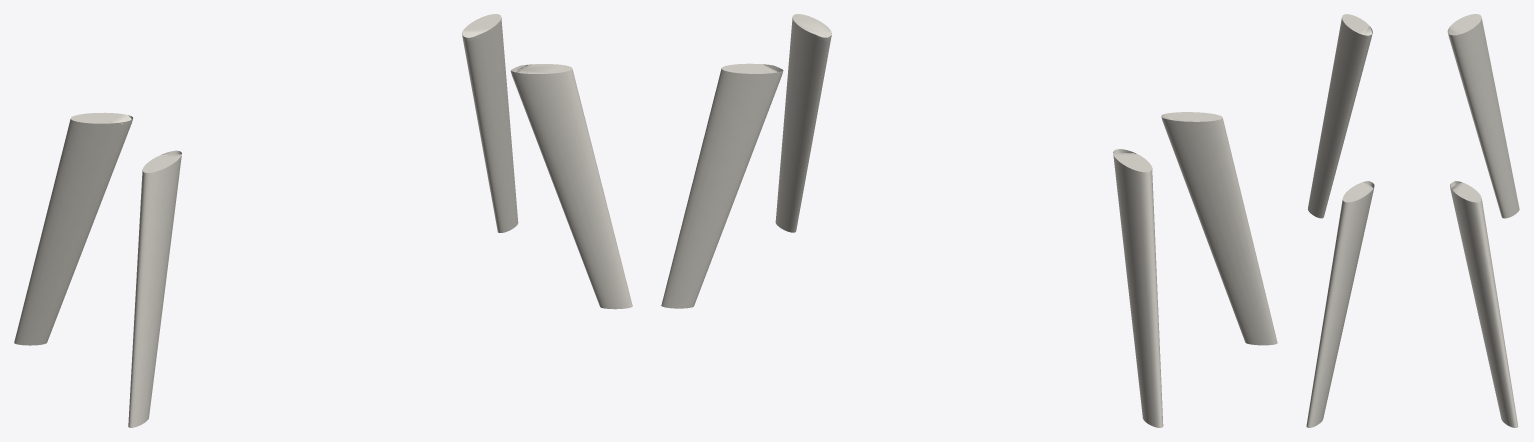
Rendered from pale_leaf2_standard_ferdinantwalnut.glb.
3 renders of one model, left to right at view 1: azimuth 30°, elevation 25°; view 2: azimuth 150°, elevation 25°; view 3: azimuth 270°, elevation 25°, orthographic. The views are drawn at different scales.
Parts seen in each view (by area): view 1: ferdinandwalnut; view 2: ferdinandwalnut; view 3: ferdinandwalnut.
Boxes of the visible parts, x1,y1,x2,y2 form: ferdinandwalnut: (14,14,632,427); ferdinandwalnut: (661,14,1277,427); ferdinandwalnut: (1306,14,1519,427).
Bounding box in the file's own units: 5.42 × 2.39 × 2.21.
Materials: 1 (1 with a texture image).
